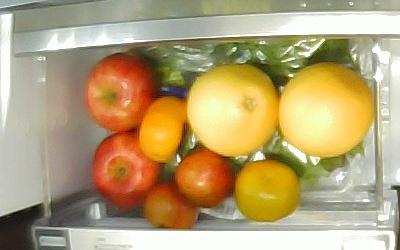apple: (85, 51, 155, 133), (92, 131, 160, 209)
grapefruit: (279, 64, 373, 157), (186, 64, 278, 156)
persimmon: (235, 160, 298, 221), (138, 96, 186, 163)
prune: (174, 149, 234, 207), (144, 181, 199, 229)
